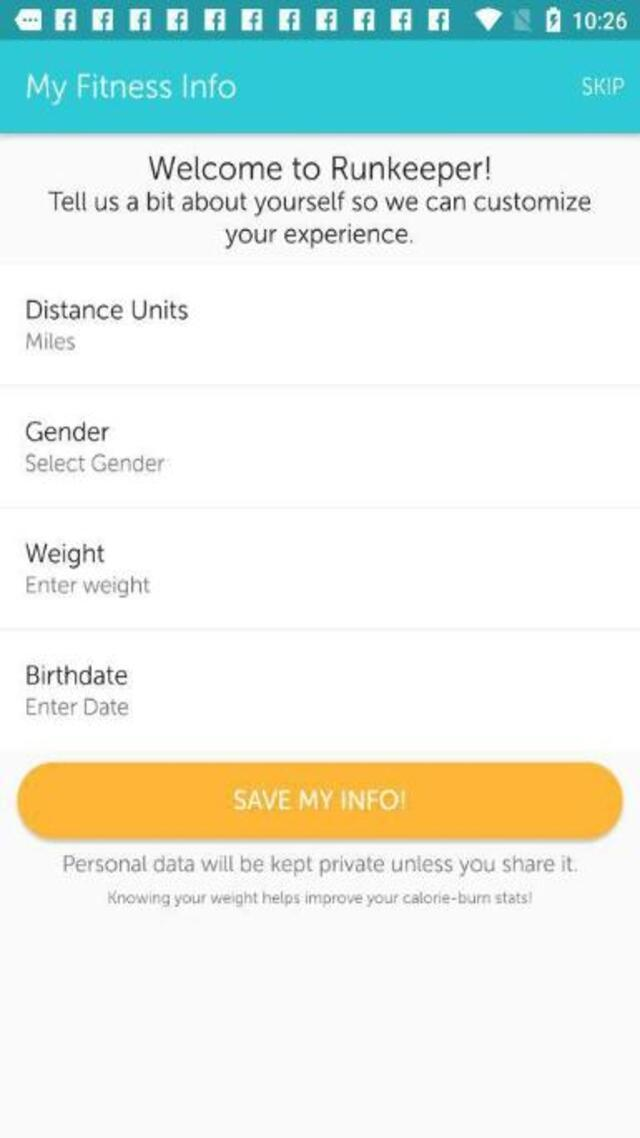Text: (45, 186, 596, 219), (62, 854, 580, 874), (143, 153, 496, 182), (106, 888, 532, 908), (26, 71, 237, 107), (216, 224, 417, 255), (228, 785, 410, 813), (28, 297, 188, 322), (26, 574, 150, 599), (25, 452, 165, 473), (26, 662, 127, 686), (25, 541, 105, 569), (25, 696, 128, 716), (26, 419, 110, 442), (26, 331, 78, 352), (580, 76, 624, 98)
TextButton: (18, 763, 624, 841)
